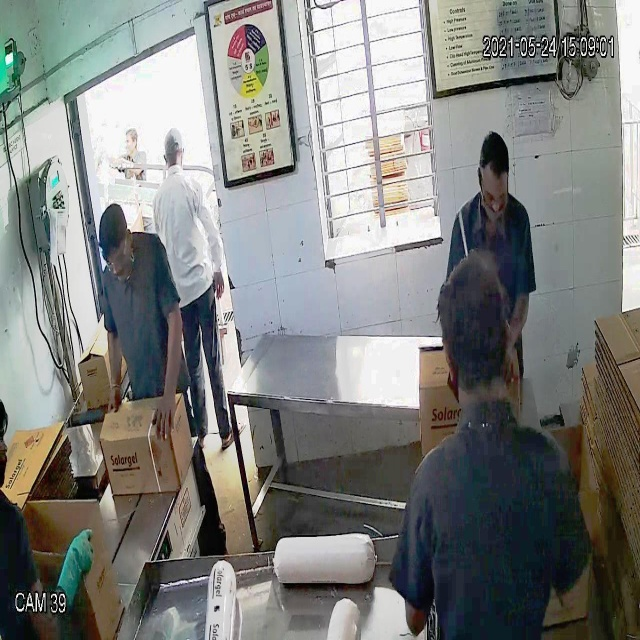Gafas: (100, 242, 133, 275)
